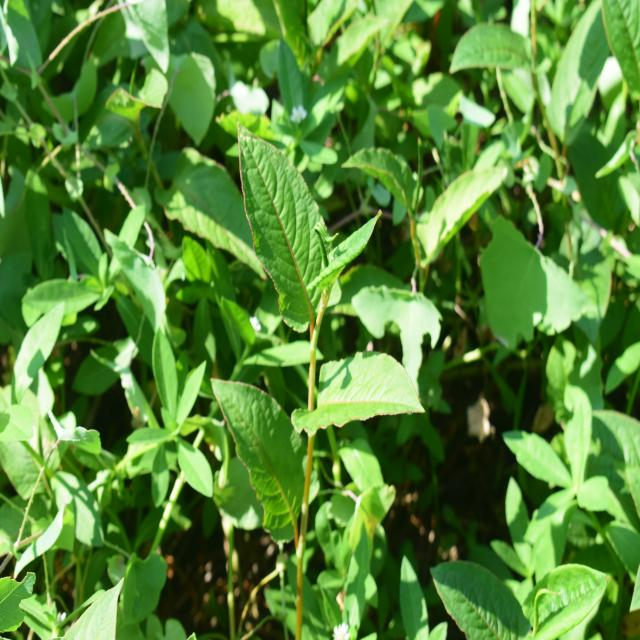Chinese_knotweed: (220, 130, 404, 520)
